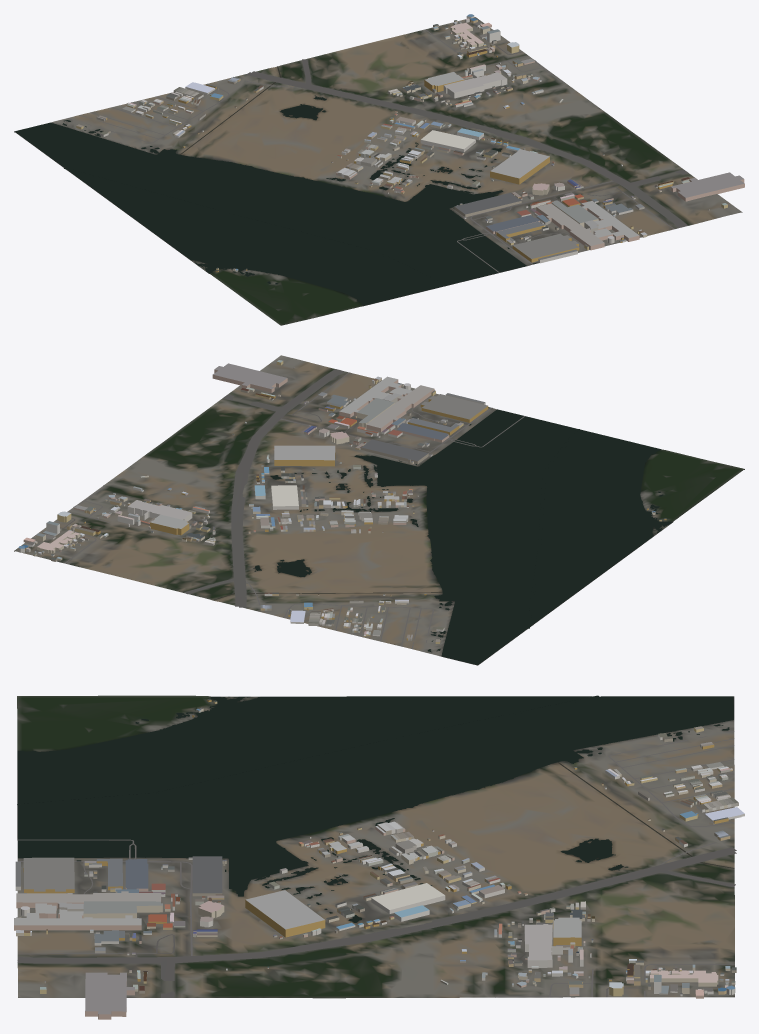
3 views of the same model, one above another, from view 1: azimuth 30°, elevation 25°; view 2: azimuth 150°, elevation 25°; view 3: azimuth 270°, elevation 25° (orthographic). The views are drawn at different scales.
Parts seen in each view (by area): view 1: ground, water, buildings, roads; view 2: ground, water, buildings, roads; view 3: ground, water, buildings, roads.
Boxes of the visible parts, x1,y1,x2,y2 form: ground: (14, 17, 742, 325); water: (15, 66, 537, 305); buildings: (76, 14, 744, 272); roads: (67, 29, 688, 272); ground: (14, 355, 744, 665); water: (213, 407, 671, 664); buildings: (18, 360, 666, 643); roads: (62, 369, 525, 652); ground: (17, 695, 734, 998); water: (17, 695, 734, 922); buildings: (14, 698, 744, 1019); roads: (17, 731, 736, 997).
Size of the model in its own units: 1503 by 34.22 by 1427.
